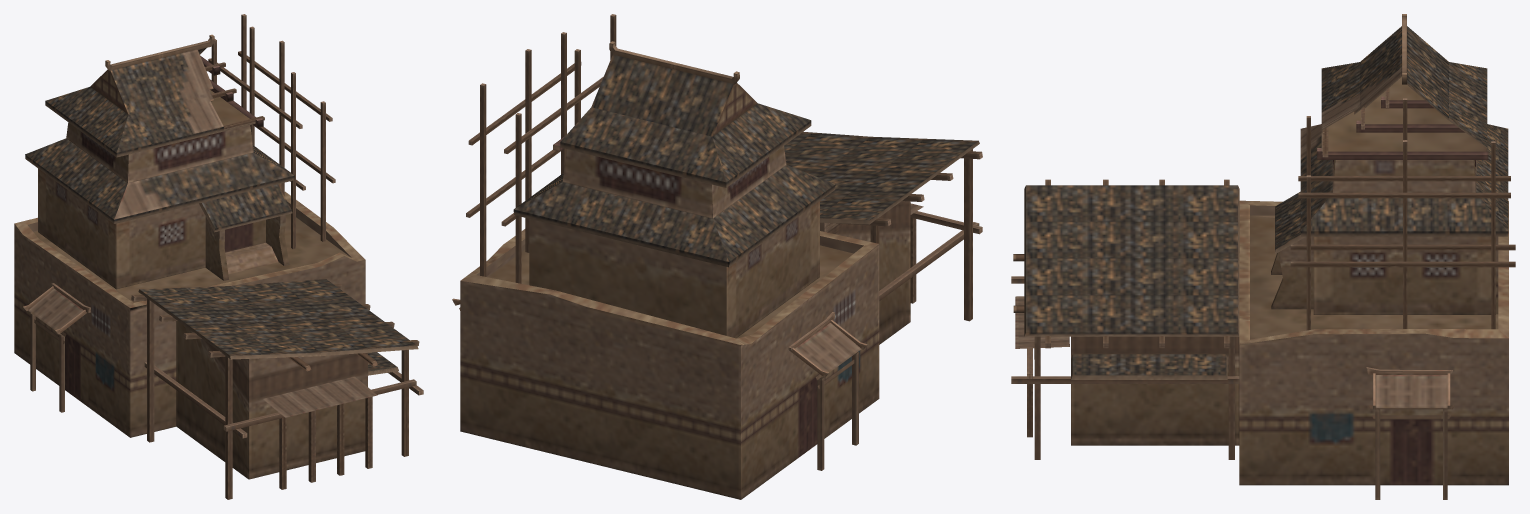
File: b_qy_minju_02_lod2.FBX
The picture shows the model from 3 angles, left to right: view 1: azimuth 30°, elevation 25°; view 2: azimuth 150°, elevation 25°; view 3: azimuth 270°, elevation 25°; orthographic projection. The views are drawn at different scales.
Parts seen in each view (by area): view 1: b_qy_minju_02_lod2; view 2: b_qy_minju_02_lod2; view 3: b_qy_minju_02_lod2.
Boxes of the visible parts, x1=… form: b_qy_minju_02_lod2: x1=14, y1=14, x2=423, y2=499; b_qy_minju_02_lod2: x1=452, y1=14, x2=982, y2=499; b_qy_minju_02_lod2: x1=1011, y1=14, x2=1515, y2=499.
Bounding box in the file's own units: 19.25 × 19.21 × 24.09.
